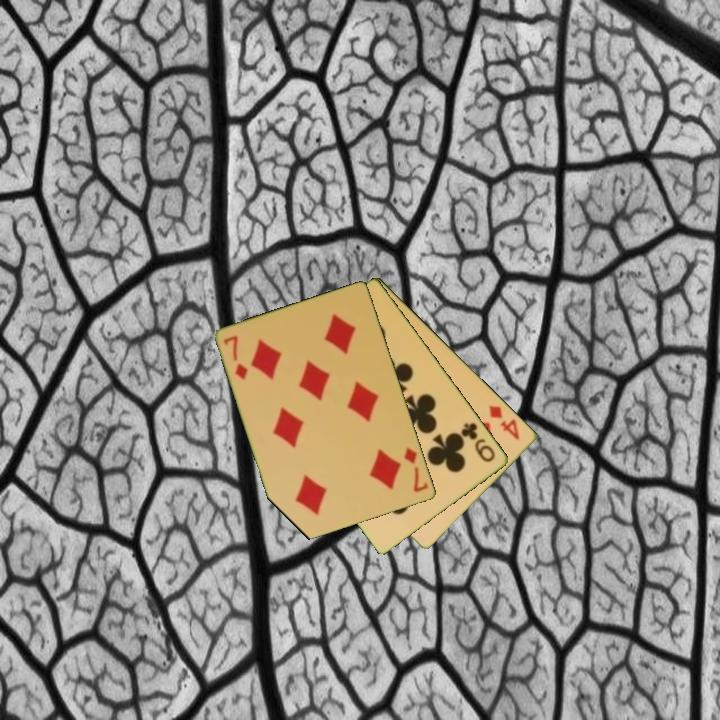4d: (485, 401, 523, 443)
7d: (220, 332, 251, 383), (401, 443, 431, 495)
9c: (458, 419, 499, 465)
